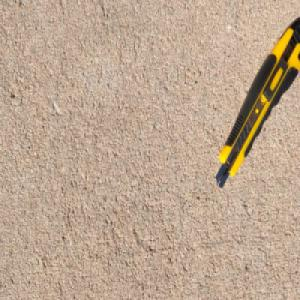Cutter: (215, 14, 300, 189)
